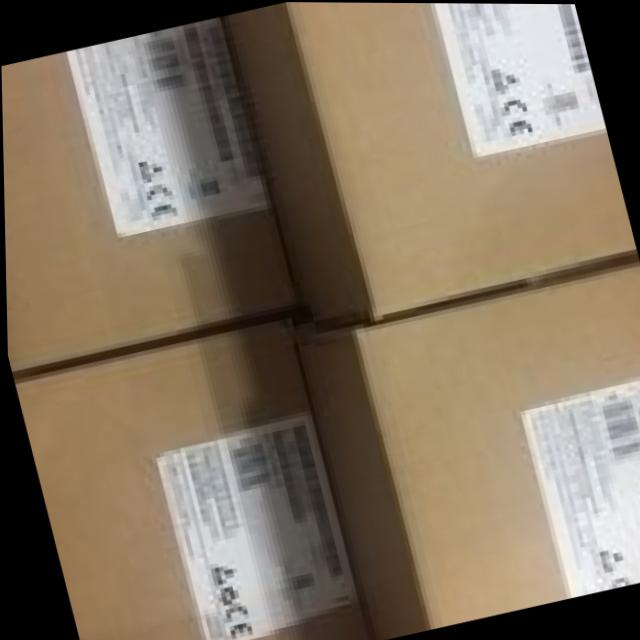box: (223, 2, 639, 336), (291, 264, 640, 640), (10, 302, 361, 640), (1, 15, 299, 371)
